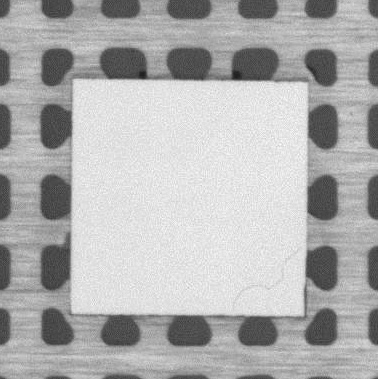DIE_CRACK: (231, 247, 302, 312)
